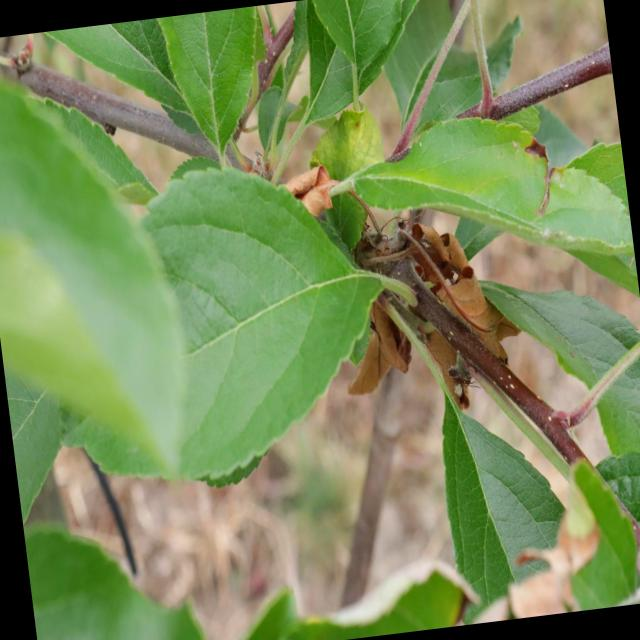-FireBlight-: (359, 230, 508, 402)
